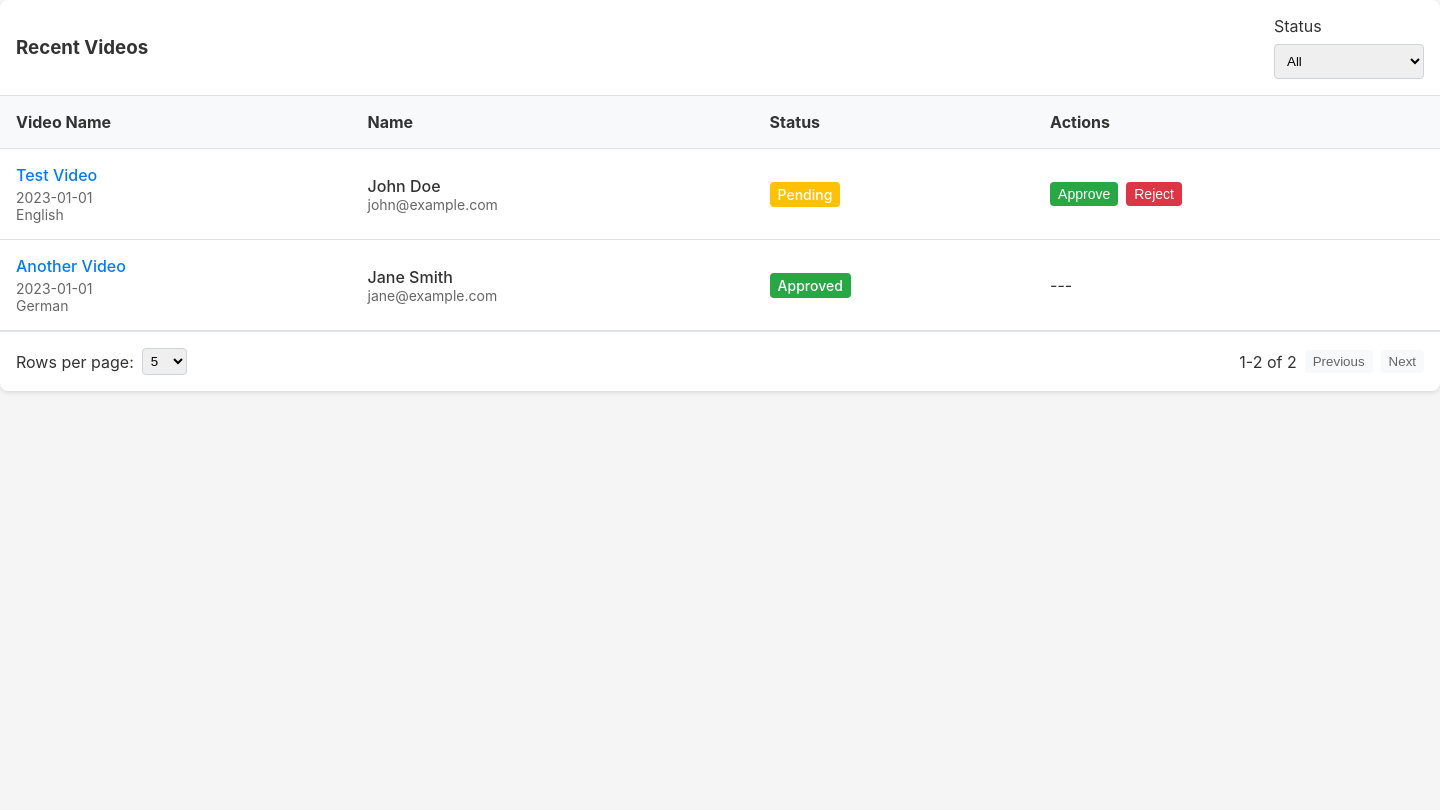
Test: RecentOrdersTable Component › displays success snackbar after successful approve
Expected: the link "Test Video" is shown, [16, 165, 97, 185]
Click the button "Approve" at {"x": 1084, "y": 194}, box [1050, 182, 1118, 206]
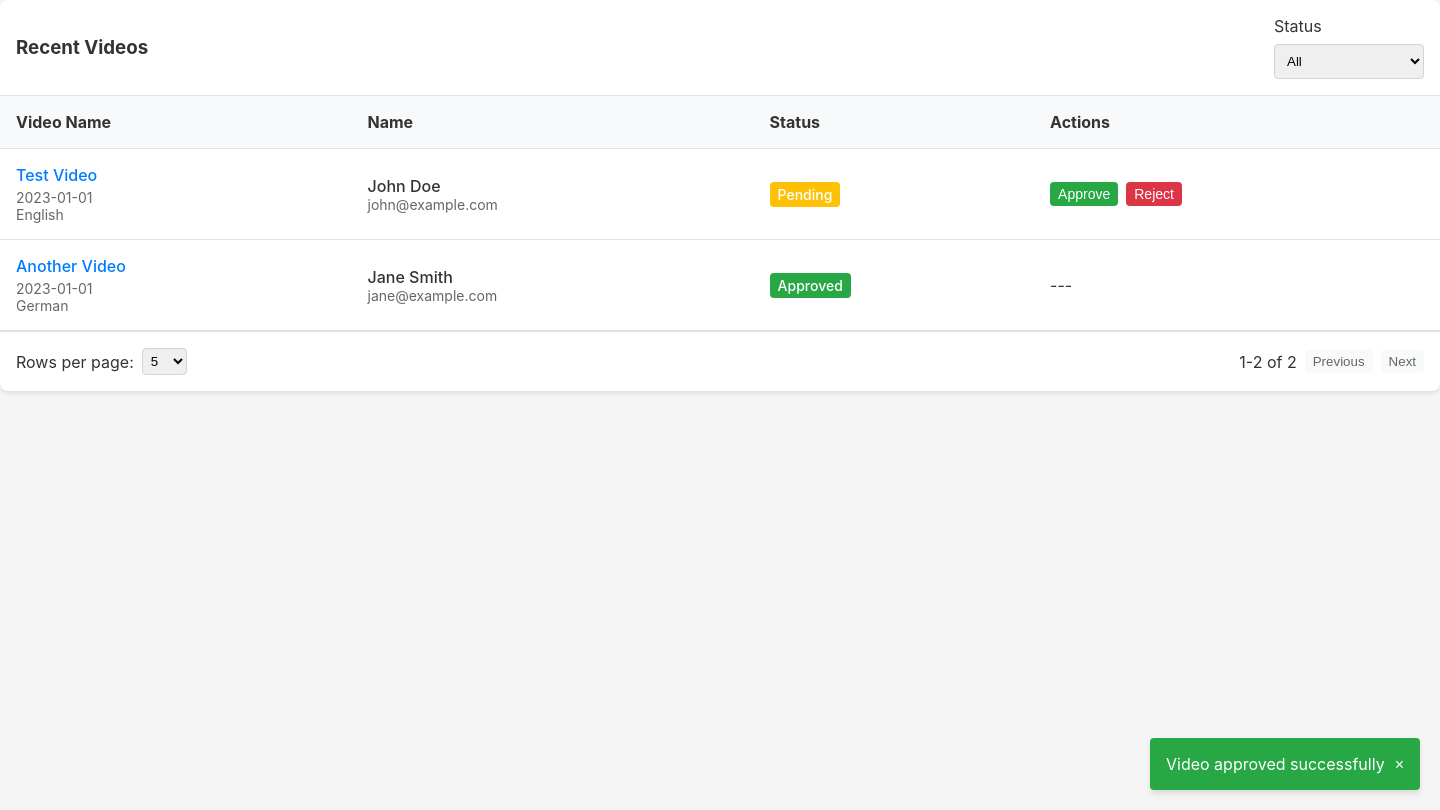
Result: the text "Video approved successfully" is shown at [1166, 754, 1385, 774]
